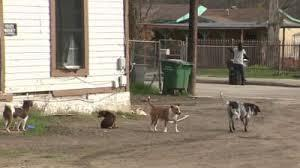normal_dogs: (219, 88, 262, 136), (143, 94, 188, 135), (2, 97, 33, 133), (94, 108, 123, 132)
